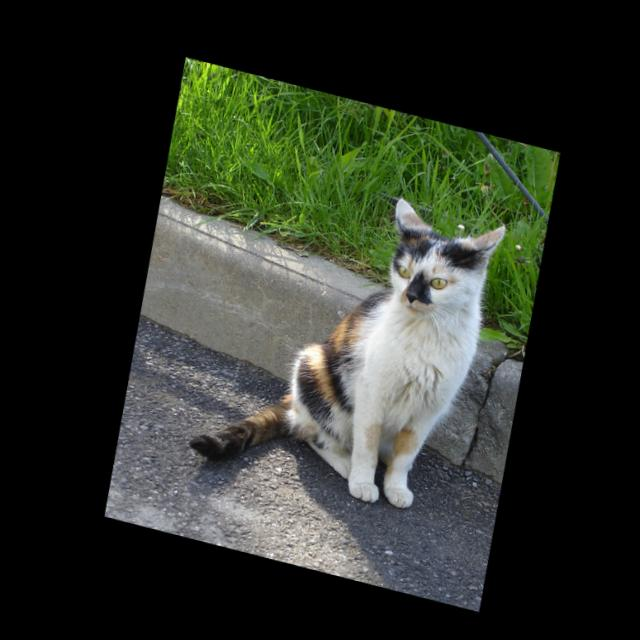animals: (175, 154, 514, 521)
